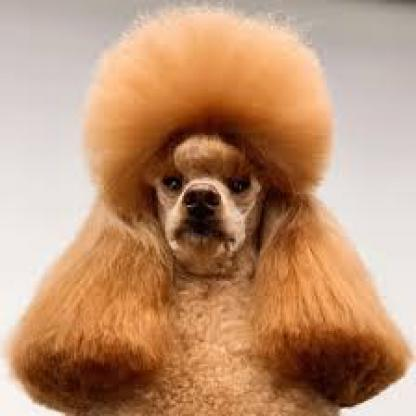Poodle: (19, 12, 406, 398)
